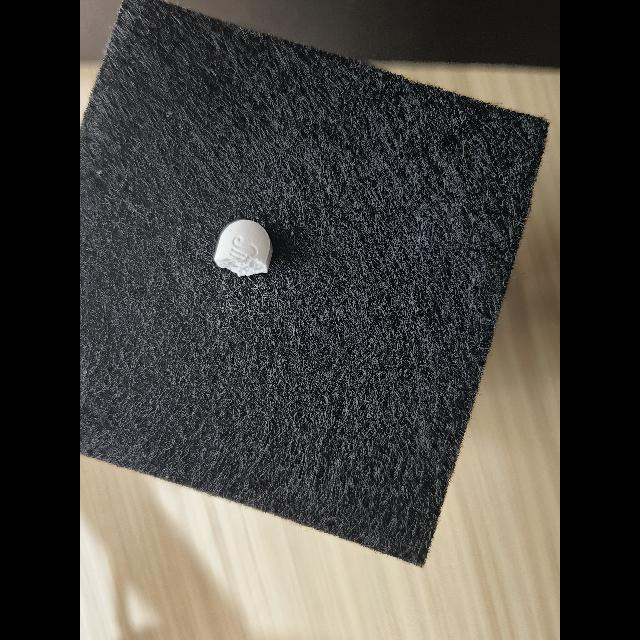Chipped Pill: (214, 220, 273, 277)
